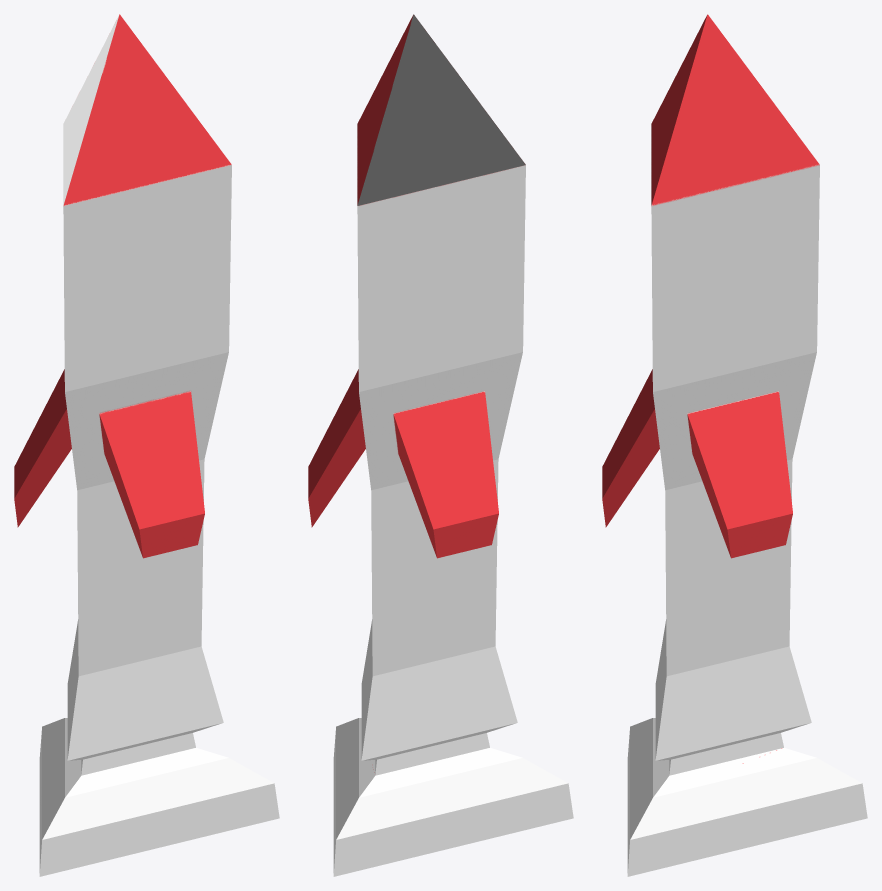
Rendered from rocket.glb.
3 views of the same model, side by side, from view 1: azimuth 30°, elevation 25°; view 2: azimuth 150°, elevation 25°; view 3: azimuth 270°, elevation 25° (orthographic).
Visible parts, largest first — view 1: Rocket; view 2: Rocket; view 3: Rocket.
Part boxes in pixels (<box>): Rocket: <box>14,14,279,876</box>; Rocket: <box>308,14,573,876</box>; Rocket: <box>602,14,867,876</box>.
Size of the model in its own units: 0.3464 by 1.11 by 0.3316.
1 material, 1 textured.
